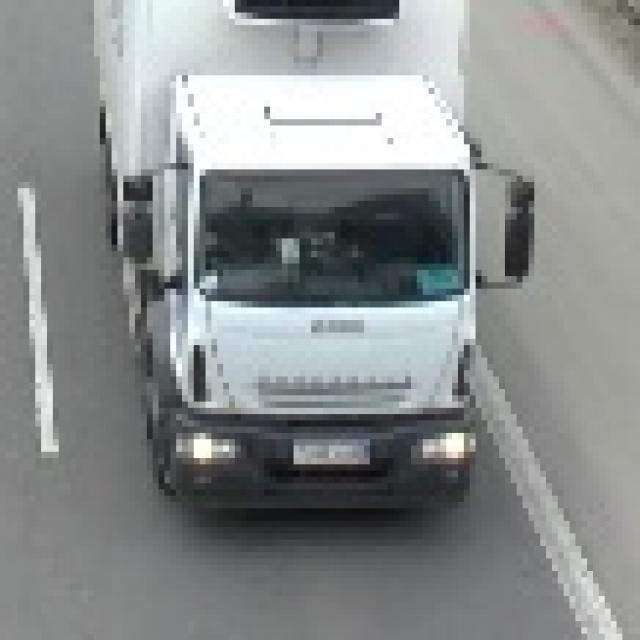Truck: (88, 0, 529, 508)
